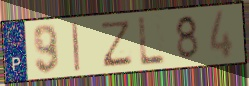4: (208, 8, 237, 62)
8: (174, 14, 200, 62)
9: (31, 23, 61, 76)
I: (70, 21, 82, 73)
L: (137, 15, 168, 68)
Z: (101, 18, 133, 69)
